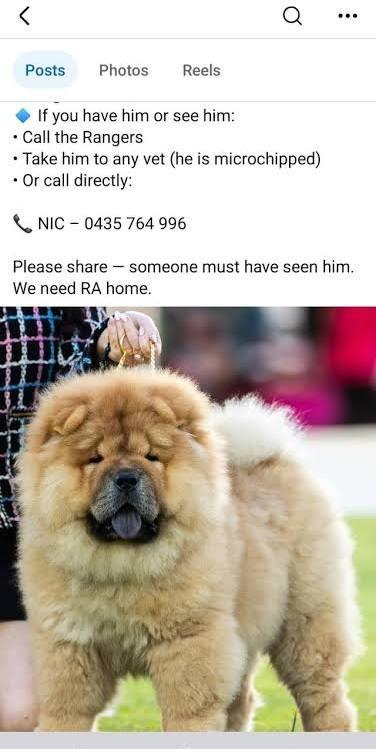adult_dog: (13, 364, 359, 734)
